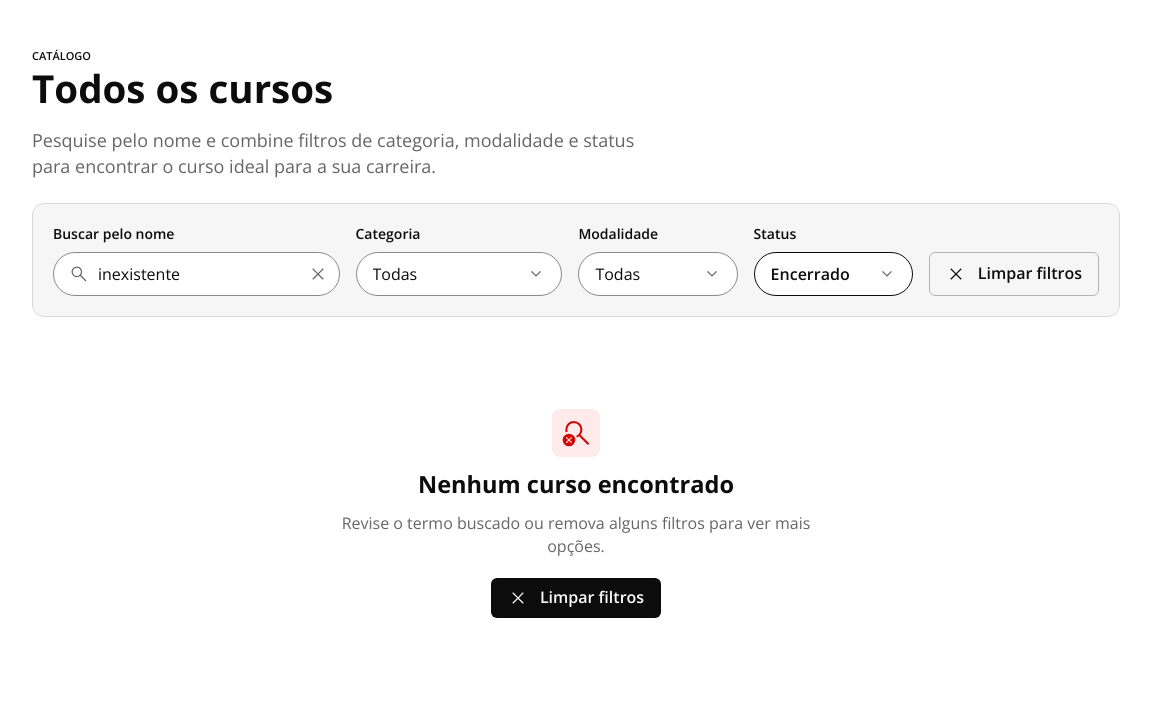
Scenario: CatalogPage › mostra mensagem quando nenhum curso é encontrado e permite limpar os filtros
Expected: the heading "Nenhum curso encontrado" is shown, [418,469,734,500]
Click the button "Limpar filtros" below "Nenhum curso encontrado" at (576, 598), box [491,578,661,618]
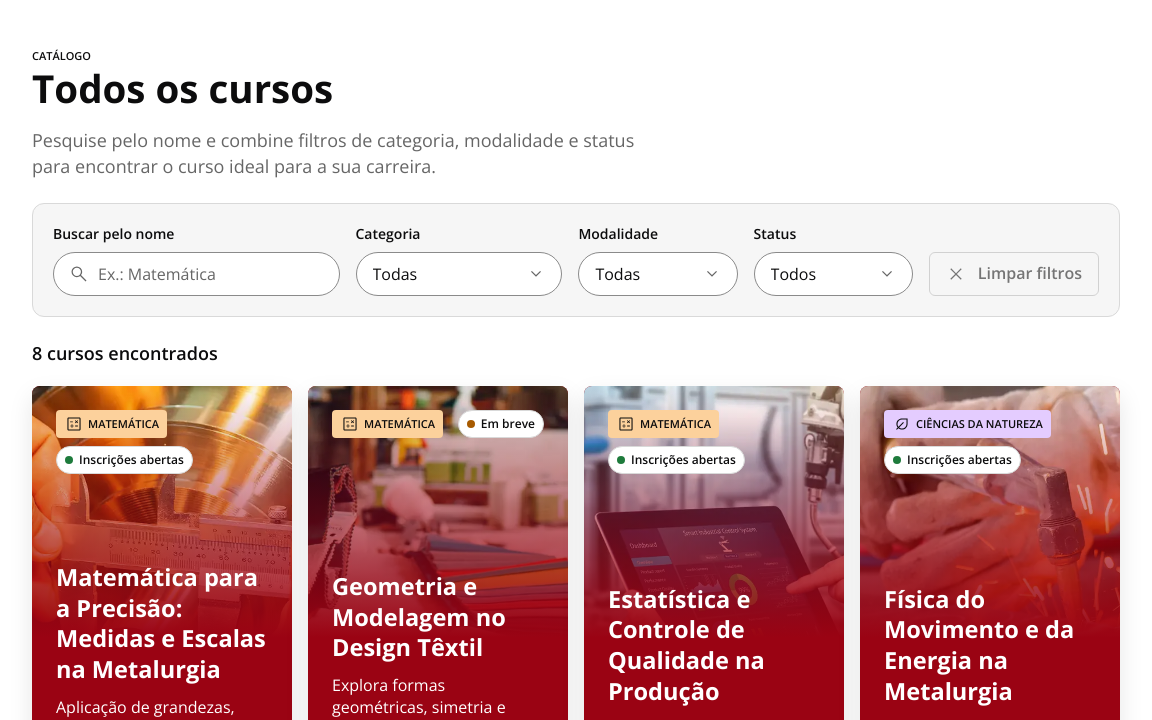
Expected: the message "8 cursos encontrados" is shown, [32,341,218,366]
Expected: the search field labelled "Buscar pelo nome" is empty, [53,252,340,296]
Expected: the dropdown labelled "Status" shows "Todos", [754,252,913,296]
